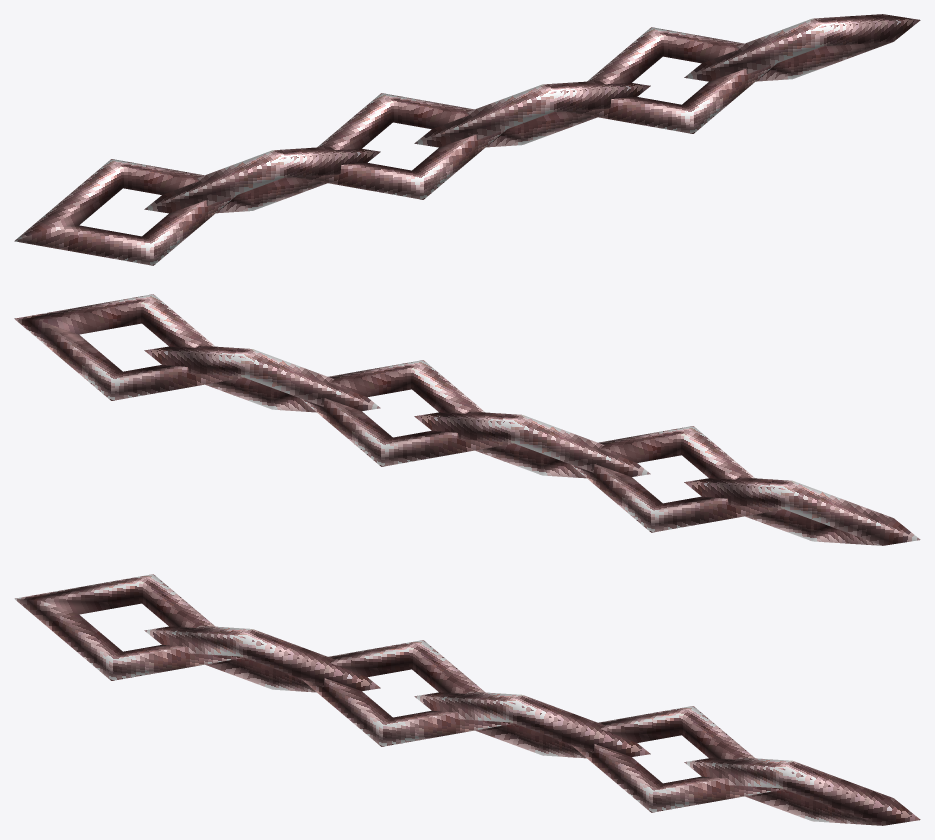
The model's file is oMscChain01a.FBX.
3 views of the same model, one above another, from view 1: azimuth 30°, elevation 25°; view 2: azimuth 150°, elevation 25°; view 3: azimuth 330°, elevation 25° (orthographic).
Parts seen in each view (by area): view 1: oMscChain01a; view 2: oMscChain01a; view 3: oMscChain01a.
Part boxes in pixels (x1,y1,x2,y2): oMscChain01a: [14, 14, 920, 265]; oMscChain01a: [14, 294, 920, 545]; oMscChain01a: [14, 574, 920, 825].
Size of the model in its own units: 29.48 by 2.37 by 2.37.
1 material, 1 textured.
